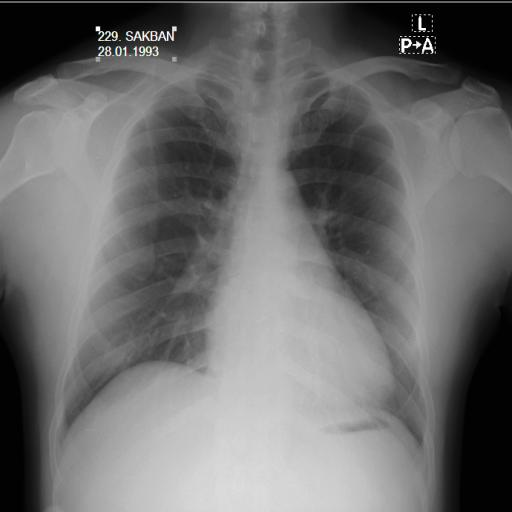kardiomegali: (46, 44, 437, 462)
